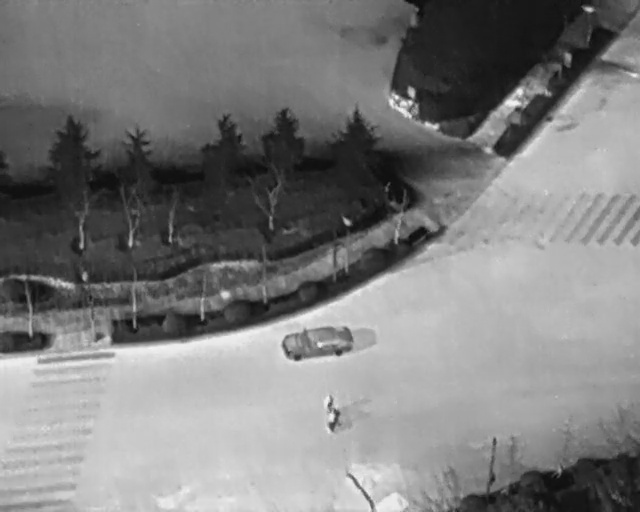Car: (278, 322, 357, 365)
Person: (329, 407, 340, 436), (323, 392, 333, 416)
